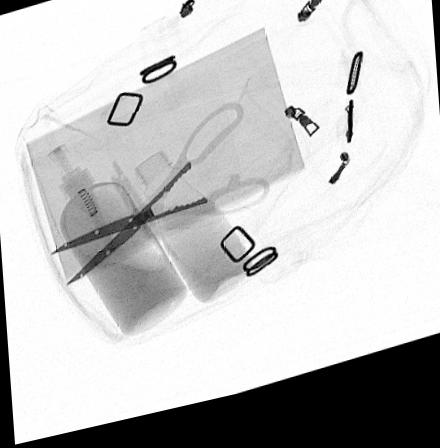Scissors: (50, 111, 275, 288)
